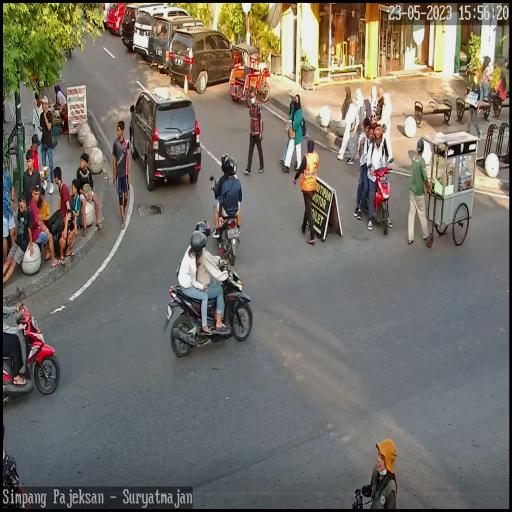mobil: (129, 86, 200, 192), (171, 28, 242, 92), (133, 7, 193, 61), (149, 19, 207, 74)
motor: (164, 252, 253, 358), (208, 173, 245, 265)
